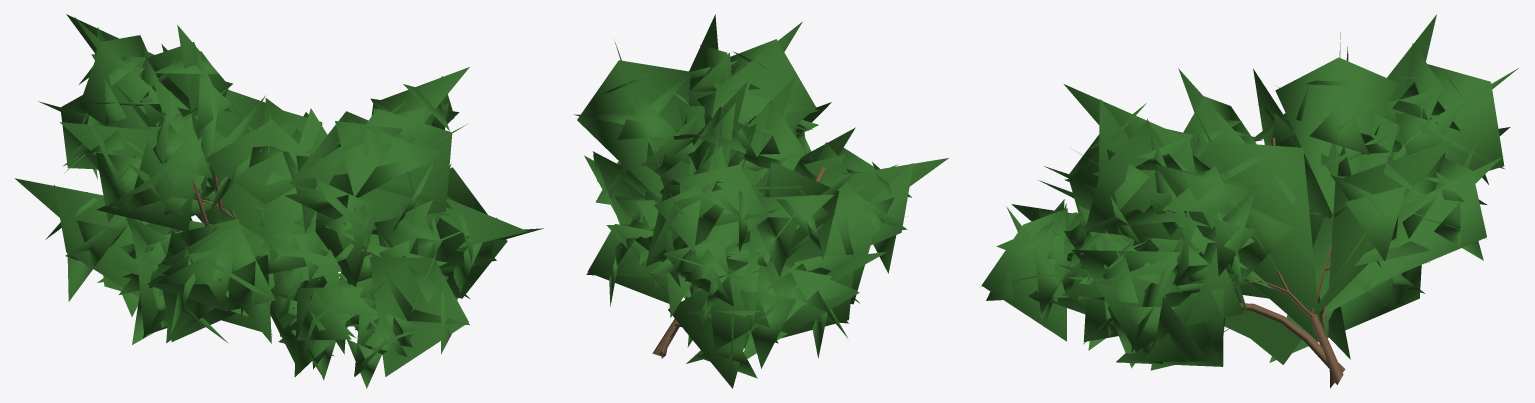
The model's file is Pine_Shrub_Q.obj.
3 views of the same model, side by side, from view 1: azimuth 30°, elevation 25°; view 2: azimuth 150°, elevation 25°; view 3: azimuth 270°, elevation 25° (orthographic). The views are drawn at different scales.
Parts seen in each view (by area): view 1: Leaves; view 2: Leaves, Trunk; view 3: Leaves, Trunk.
Boxes of the visible parts, x1,y1,x2,y2 form: Leaves: (15, 14, 543, 388); Leaves: (574, 14, 948, 388); Trunk: (652, 166, 825, 358); Leaves: (979, 14, 1518, 370); Trunk: (1240, 138, 1345, 388).
Size of the model in its own units: 8.14 by 6 by 9.3.
